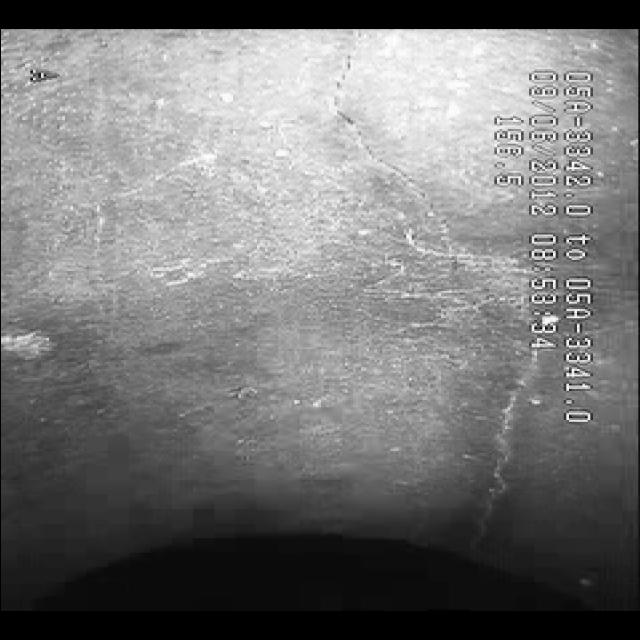Crack: (291, 48, 457, 250)
